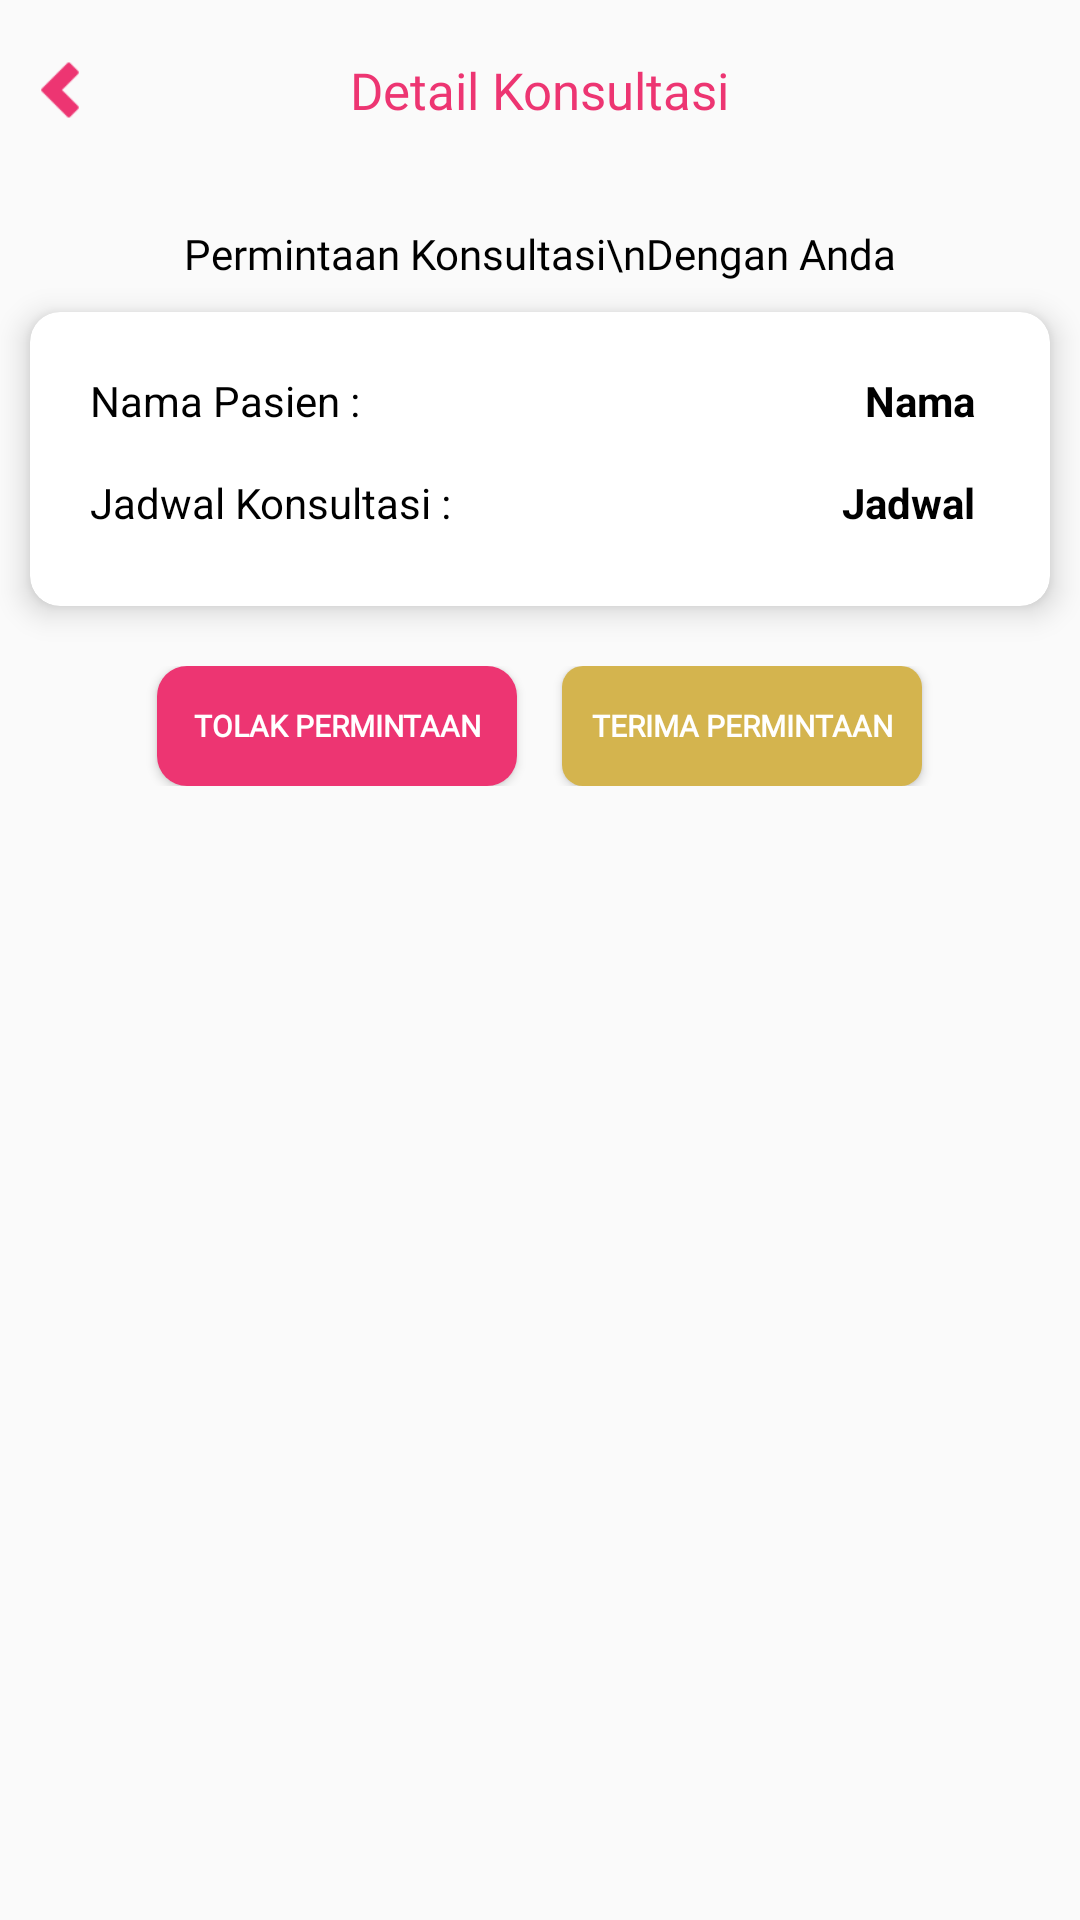

Where to tap for icons on this 1080 x 1920 app screen, as point (x, y):
arrow left: point (60, 90)
